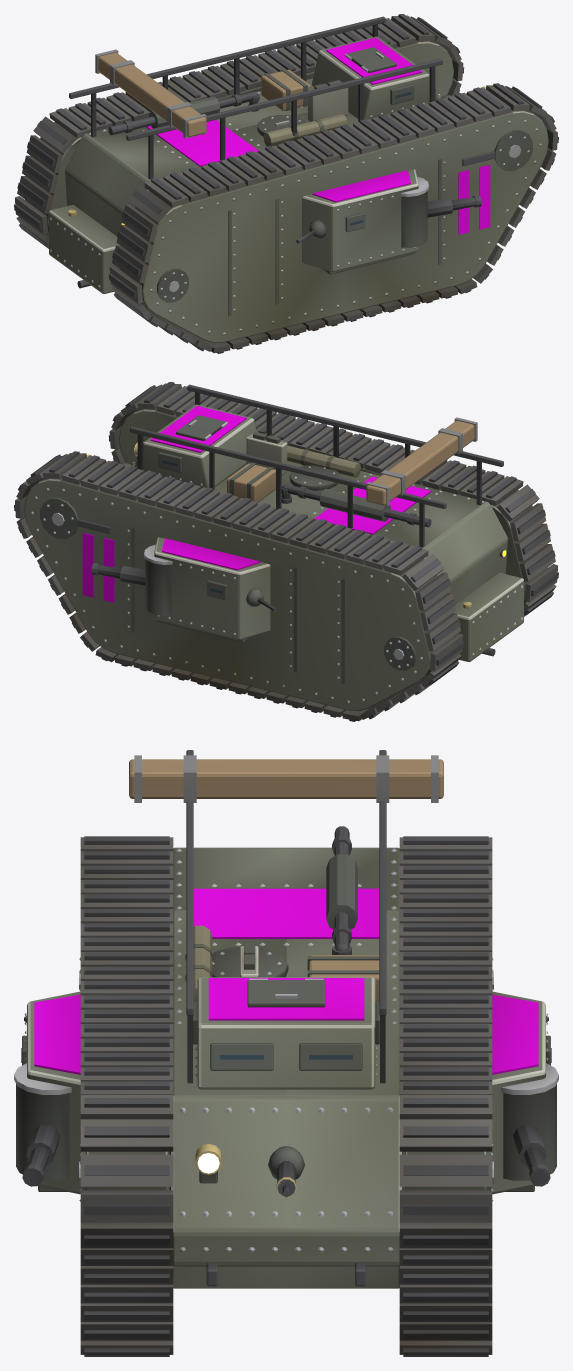
The model's file is landship.glb.
3 views of the same model, one above another, from view 1: azimuth 30°, elevation 25°; view 2: azimuth 150°, elevation 25°; view 3: azimuth 270°, elevation 25° (orthographic). The views are drawn at different scales.
Parts seen in each view (by area): view 1: Body; view 2: Body; view 3: Body.
Boxes of the visible parts, x1,y1,x2,y2 form: Body: [14, 14, 558, 353]; Body: [14, 382, 558, 721]; Body: [14, 750, 558, 1356].
Size of the model in its own units: 4.45 by 2.27 by 2.94.
Materials: 1 (1 with a texture image).
